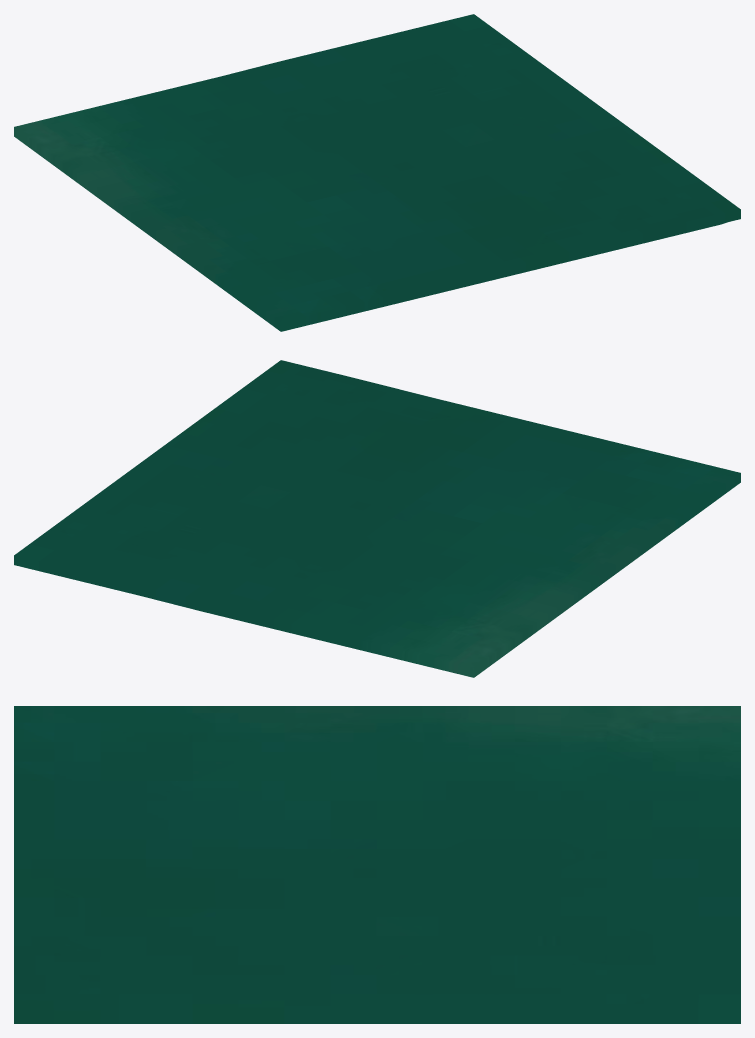
File: z17-20965-50644-h0-yup-uvflip-v3-world.glb
3 views of the same model, one above another, from view 1: azimuth 30°, elevation 25°; view 2: azimuth 150°, elevation 25°; view 3: azimuth 270°, elevation 25° (orthographic). The views are drawn at different scales.
Size of the model in its own units: 241 by 5.12 by 243.
Materials: 1 (1 with a texture image).
